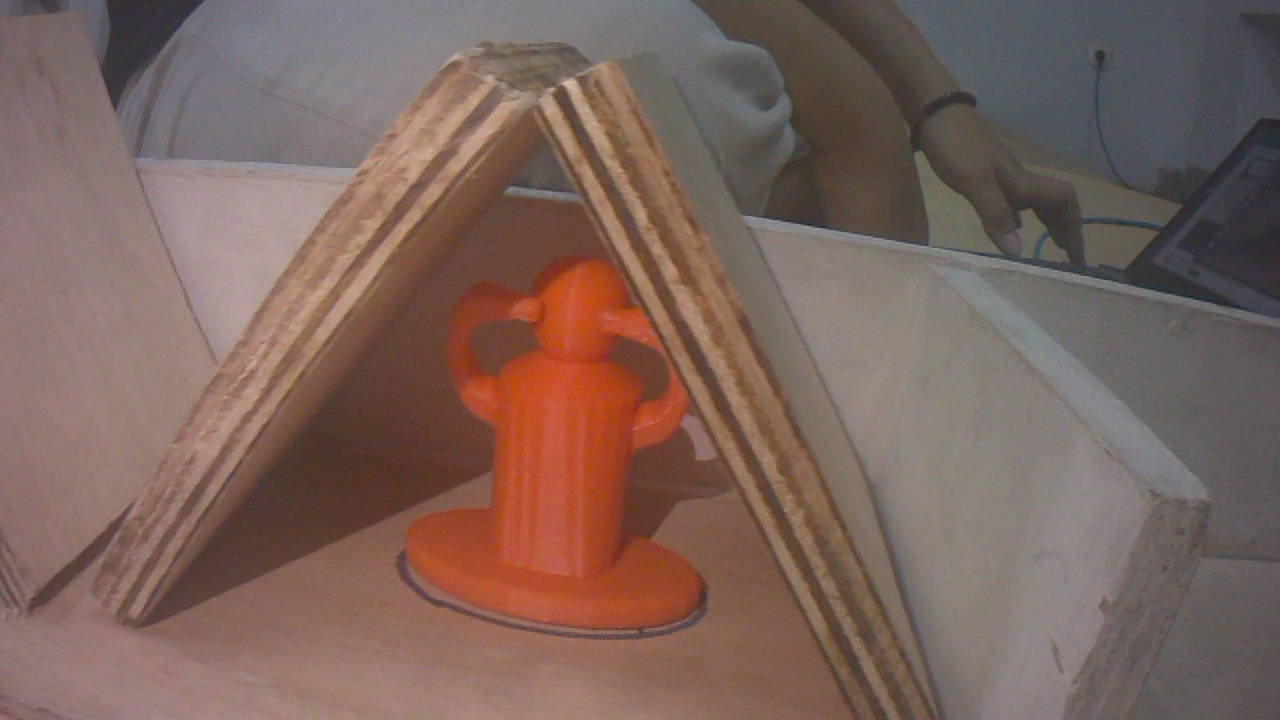real: (406, 257, 711, 639)
